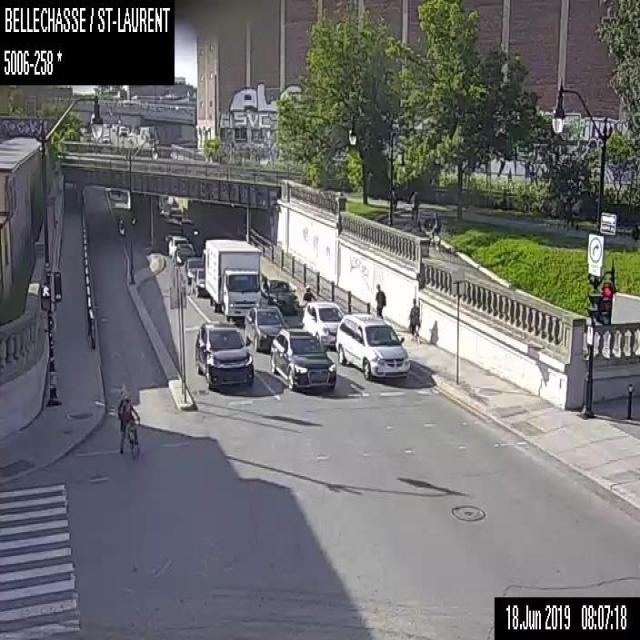cyclist: (116, 390, 140, 458), (428, 212, 439, 250)
pedestrian: (407, 296, 421, 341), (374, 282, 386, 318), (409, 191, 417, 220)
vehicle: (335, 313, 409, 378), (204, 238, 261, 321), (270, 328, 336, 388), (195, 321, 252, 386), (244, 305, 289, 350), (301, 302, 344, 344), (261, 280, 298, 312), (173, 243, 195, 266), (183, 257, 203, 282), (191, 267, 207, 297), (168, 235, 187, 258), (168, 207, 181, 220), (118, 125, 127, 136), (102, 133, 108, 142), (111, 122, 114, 131)
